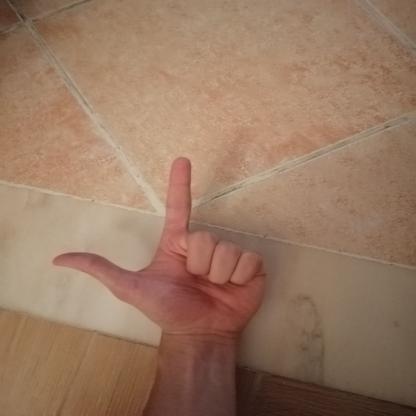LAAM: (31, 145, 280, 348)
